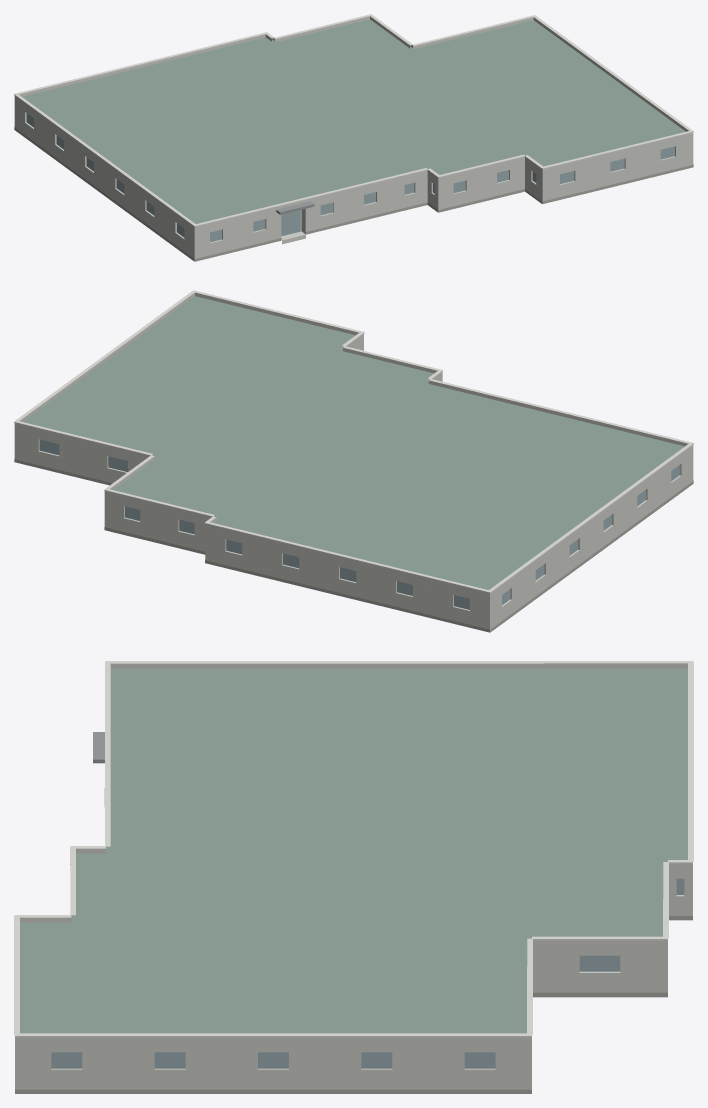
The picture shows the model from 3 angles, top to bottom: view 1: azimuth 30°, elevation 25°; view 2: azimuth 150°, elevation 25°; view 3: azimuth 270°, elevation 25°; orthographic projection. The views are drawn at different scales.
Parts seen in each view (by area): view 1: b115951787__roof, b115951787__wall, b115951787__trim, b115951787__parapet, b115951787__glass, b115951787__base; view 2: b115951787__roof, b115951787__wall, b115951787__trim, b115951787__parapet, b115951787__base, b115951787__glass; view 3: b115951787__roof, b115951787__wall, b115951787__trim, b115951787__parapet, b115951787__glass, b115951787__base.
Boxes of the visible parts, left/top/right/bottom form: b115951787__roof: left=22, top=19, right=685, bottom=223; b115951787__wall: left=14, top=97, right=693, bottom=261; b115951787__trim: left=14, top=14, right=693, bottom=226; b115951787__parapet: left=14, top=16, right=693, bottom=228; b115951787__glass: left=26, top=113, right=674, bottom=242; b115951787__base: left=14, top=127, right=693, bottom=261; b115951787__roof: left=23, top=296, right=684, bottom=589; b115951787__wall: left=14, top=336, right=693, bottom=631; b115951787__trim: left=14, top=290, right=693, bottom=593; b115951787__parapet: left=14, top=292, right=693, bottom=595; b115951787__base: left=14, top=459, right=693, bottom=632; b115951787__glass: left=39, top=439, right=679, bottom=609; b115951787__roof: left=20, top=668, right=687, bottom=1033; b115951787__wall: left=15, top=867, right=692, bottom=1089; b115951787__trim: left=14, top=661, right=693, bottom=1037; b115951787__parapet: left=15, top=663, right=692, bottom=1040; b115951787__glass: left=51, top=878, right=684, bottom=1068; b115951787__base: left=15, top=916, right=692, bottom=1093.
Bounding box in the file's own units: 54.56 × 4.35 × 41.82.
